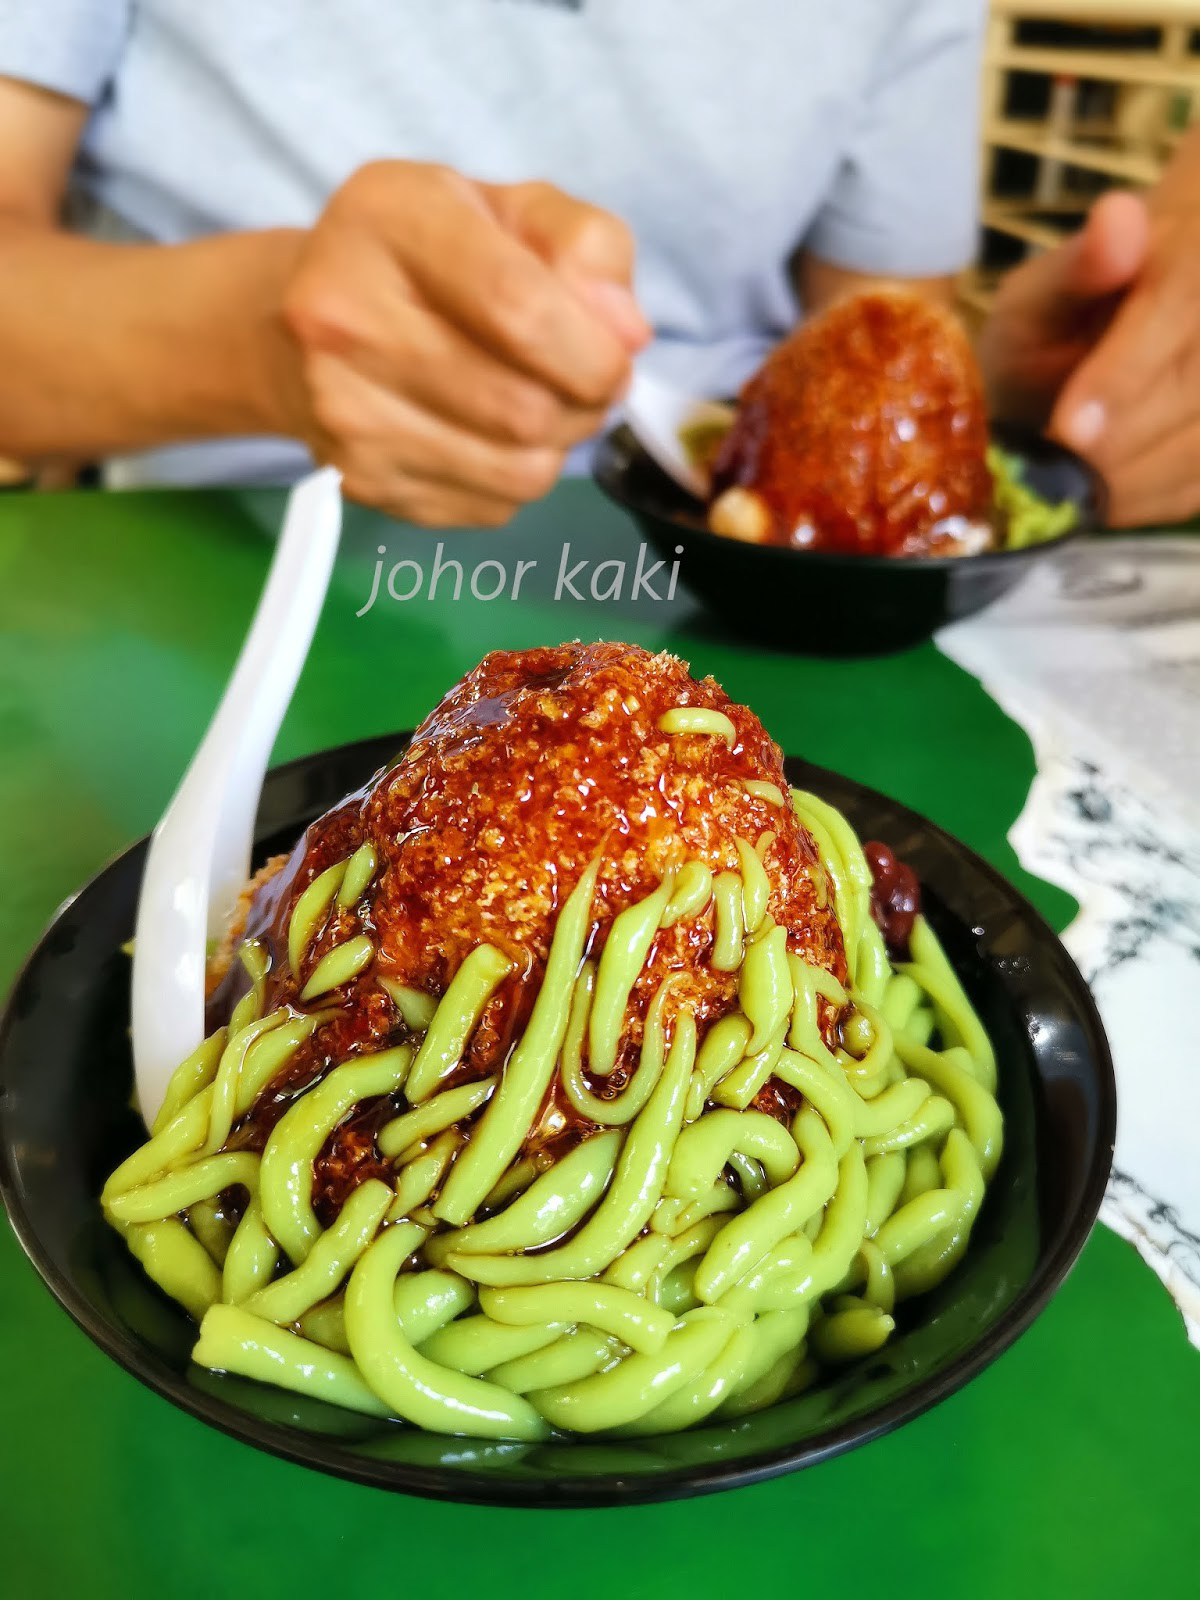Chendol: (175, 620, 1006, 1448), (616, 202, 1085, 559)
